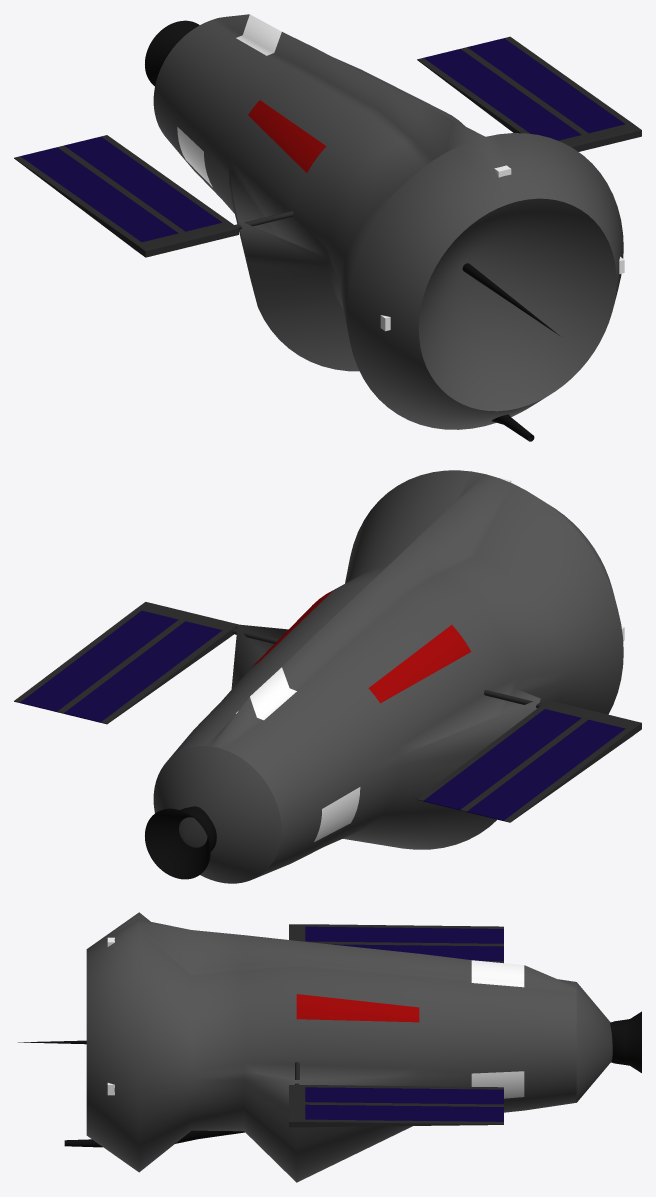
Rendered from Nu Probe.FBX.
3 views of the same model, one above another, from view 1: azimuth 30°, elevation 25°; view 2: azimuth 150°, elevation 25°; view 3: azimuth 270°, elevation 25° (orthographic). The views are drawn at different scales.
Visible parts, largest first — view 1: Main Hull, EngineUnit4, EngineUnit1, EngineUnit3, EngineUnit2, MainThruster, Aerial; view 2: Main Hull, EngineUnit4, EngineUnit1, EngineUnit2, EngineUnit3, MainThruster; view 3: Main Hull, EngineUnit3, EngineUnit1, EngineUnit4, EngineUnit2, MainThruster, Missile Tube.
Part boxes in pixels (x1=…): Main Hull: x1=153, y1=14, x2=623, y2=429; EngineUnit4: x1=14, y1=145, x2=194, y2=257; EngineUnit1: x1=417, y1=47, x2=598, y2=151; EngineUnit3: x1=467, y1=36, x2=641, y2=148; EngineUnit2: x1=64, y1=135, x2=238, y2=246; MainThruster: x1=145, y1=20, x2=199, y2=86; Aerial: x1=462, y1=263, x2=559, y2=335; Main Hull: x1=153, y1=470, x2=623, y2=883; EngineUnit4: x1=461, y1=712, x2=641, y2=822; EngineUnit1: x1=58, y1=614, x2=238, y2=724; EngineUnit2: x1=417, y1=700, x2=597, y2=811; EngineUnit3: x1=14, y1=602, x2=194, y2=713; MainThruster: x1=145, y1=806, x2=216, y2=879; Main Hull: x1=86, y1=912, x2=612, y2=1182; EngineUnit3: x1=289, y1=1102, x2=503, y2=1127; EngineUnit1: x1=289, y1=1085, x2=503, y2=1106; EngineUnit4: x1=289, y1=924, x2=503, y2=946; EngineUnit2: x1=306, y1=941, x2=503, y2=963; MainThruster: x1=610, y1=1011, x2=641, y2=1072; Missile Tube: x1=64, y1=1130, x2=244, y2=1147.
Size of the model in its own units: 10.03 by 5.82 by 13.46.
